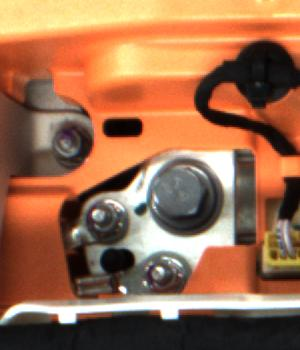screw_s: (135, 245, 179, 293), (52, 132, 96, 175), (78, 202, 121, 232)
